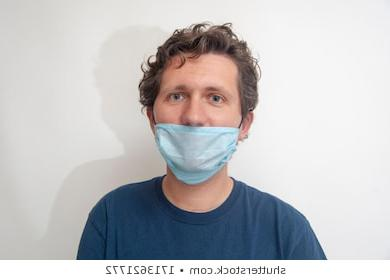mask_weared_incorrect: (153, 69, 239, 177)
